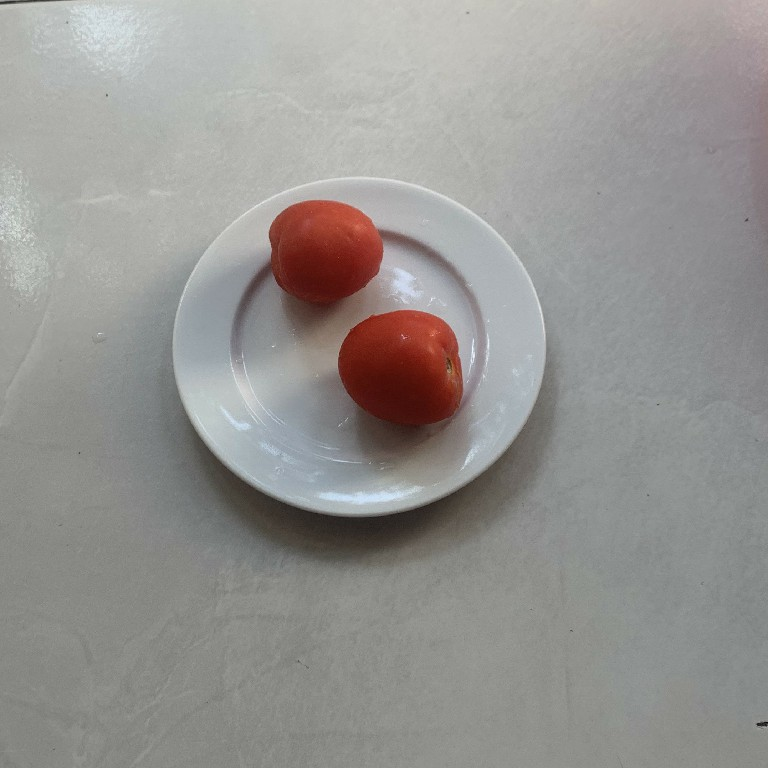OK: (340, 308, 468, 431), (265, 196, 387, 298)
